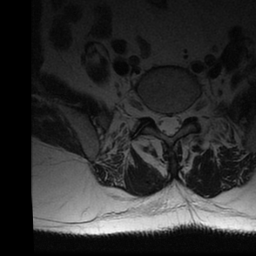CCS_normal: (164, 104, 173, 142)
LFS_normal: (182, 99, 191, 126)
LLS_normal: (173, 104, 183, 138)
RFS_normal: (146, 97, 155, 126)
RLS_normal: (155, 104, 164, 138)
